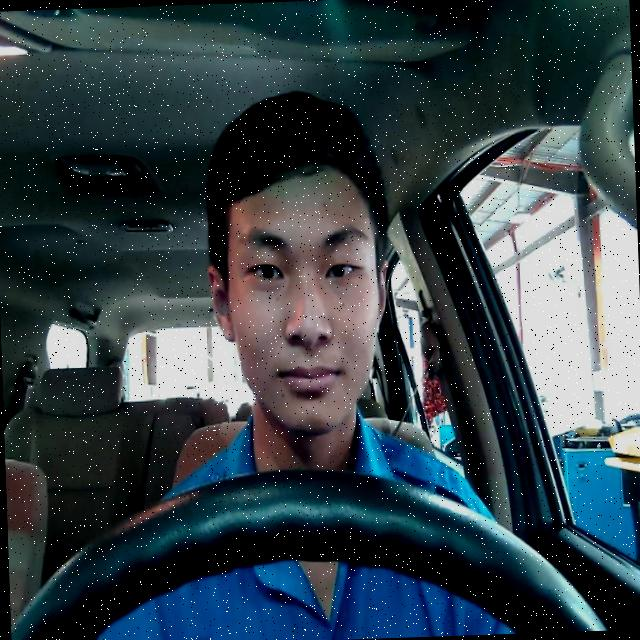focused: (202, 166, 393, 438)
